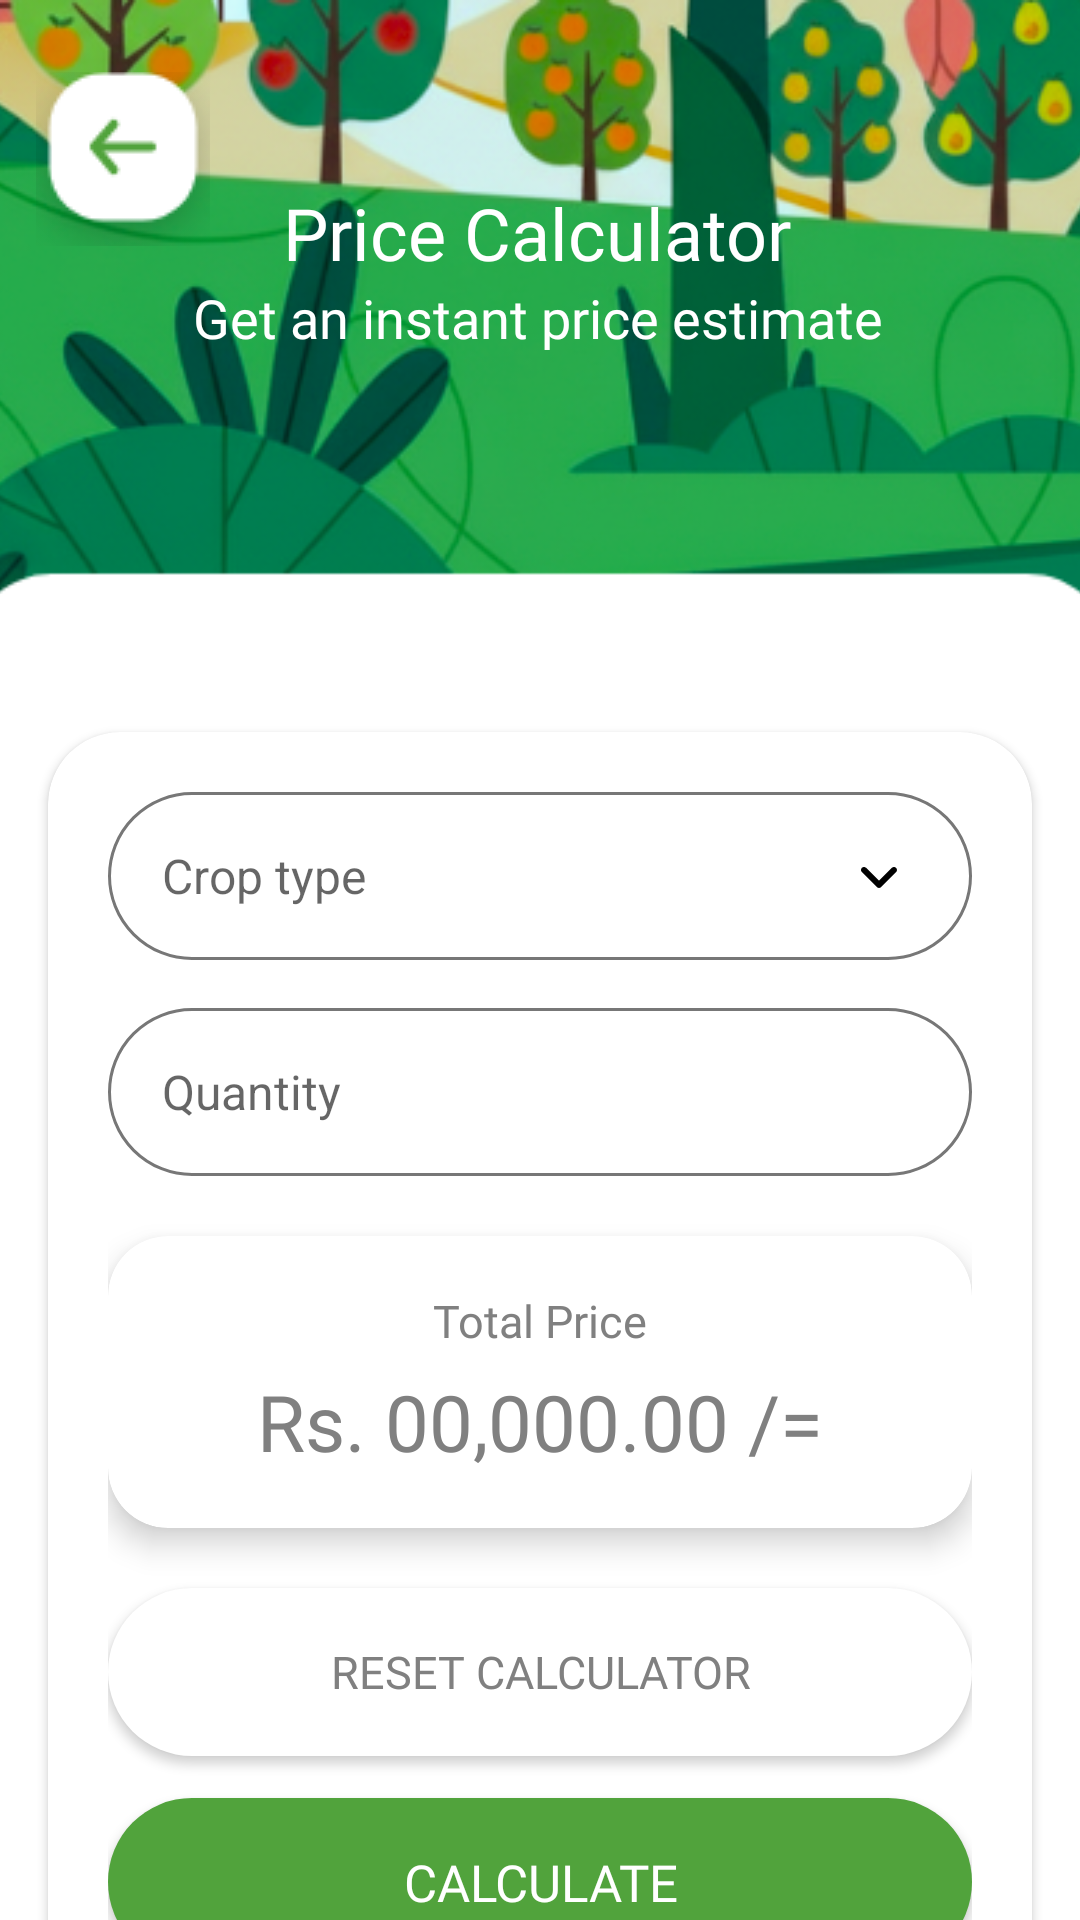

Icons on this 1080w x 1920h Android screen, each with the point to tap as (x,y):
Back: (123,159)
